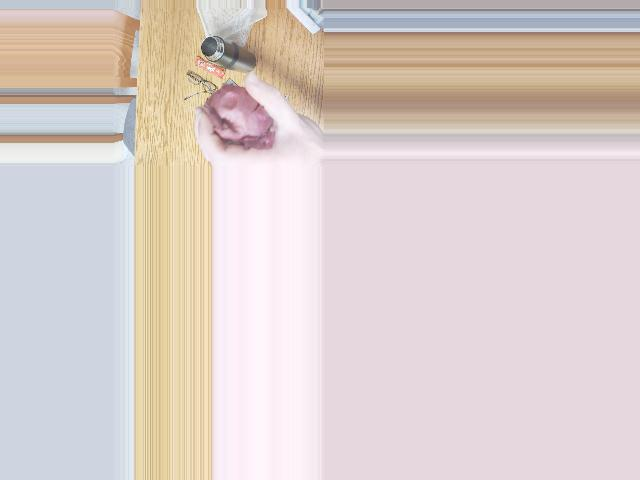onion: (206, 94, 259, 137)
